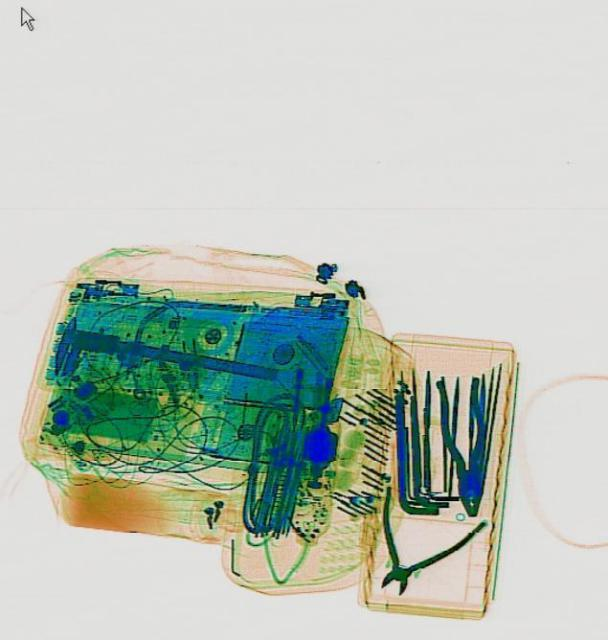Pliers: (345, 482, 482, 612), (433, 376, 492, 518)
